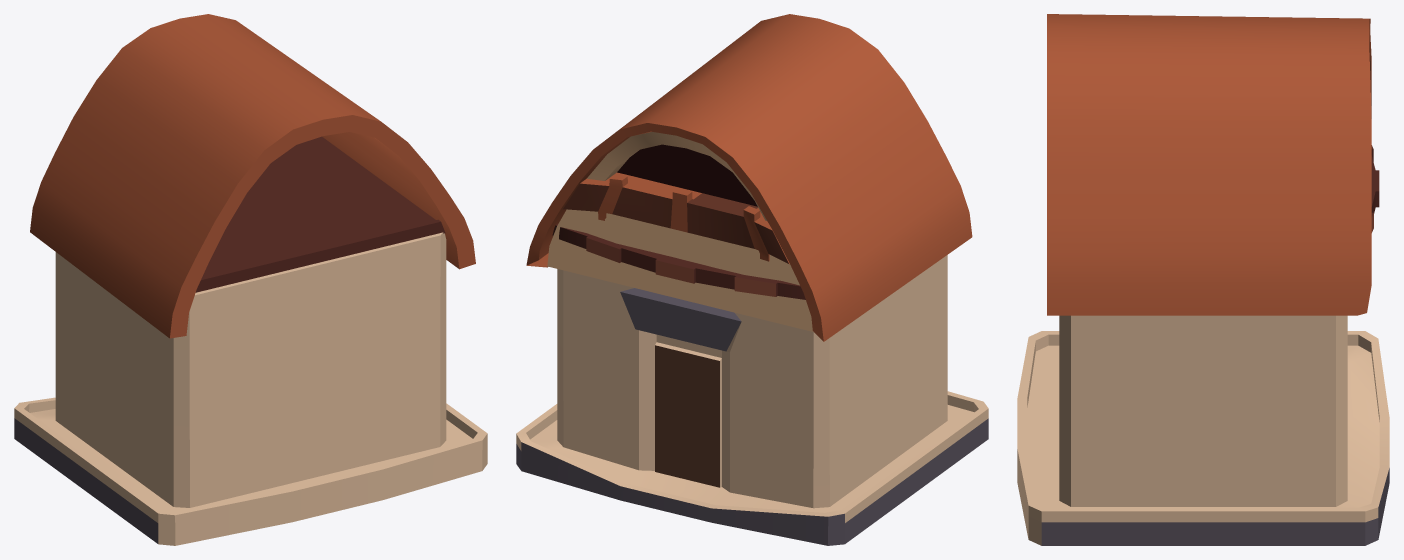
Rendered from Casa.fbx.
3 views of the same model, side by side, from view 1: azimuth 30°, elevation 25°; view 2: azimuth 150°, elevation 25°; view 3: azimuth 270°, elevation 25° (orthographic). The views are drawn at different scales.
Parts seen in each view (by area): view 1: House; view 2: House; view 3: House.
Boxes of the visible parts, x1,y1,x2,y2 form: House: (14,14,487,545); House: (516,14,988,545); House: (1017,14,1389,545).
Bounding box in the file's own units: 296 × 329 × 258.
